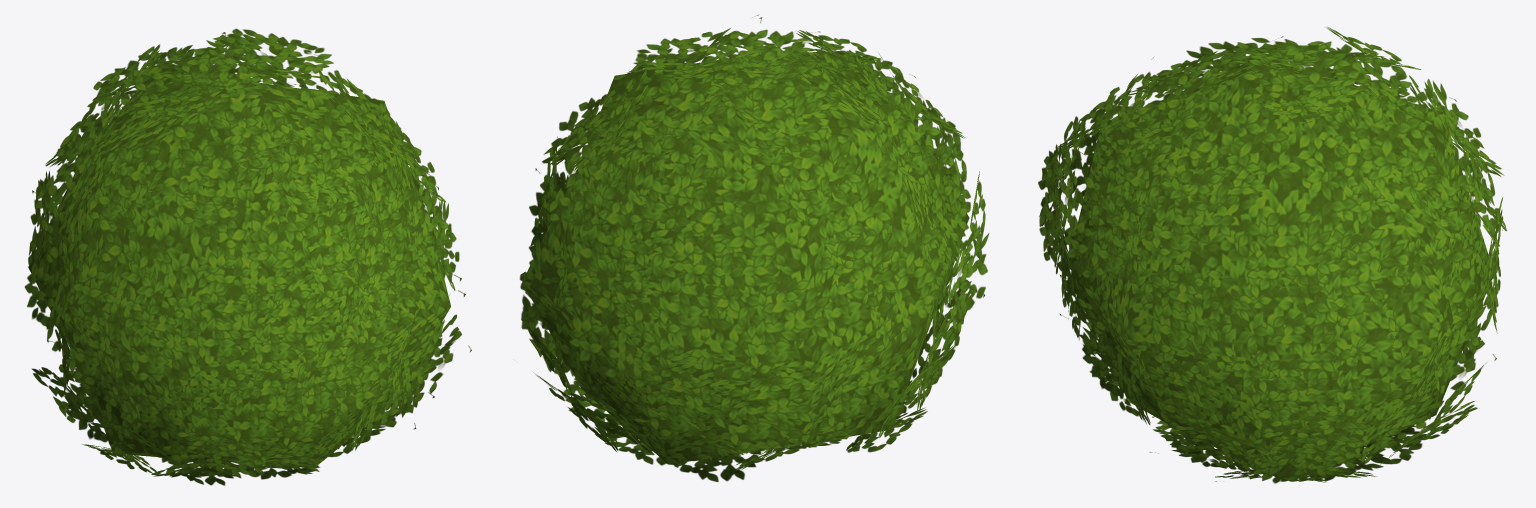
Rendered from bush.glb.
3 views of the same model, side by side, from view 1: azimuth 30°, elevation 25°; view 2: azimuth 150°, elevation 25°; view 3: azimuth 270°, elevation 25° (orthographic).
Visible parts, largest first — view 1: Bush_low; view 2: Bush_low; view 3: Bush_low.
Part boxes in pixels (x1=…): Bush_low: x1=24, y1=28, x2=471, y2=485; Bush_low: x1=519, y1=14, x2=989, y2=481; Bush_low: x1=1038, y1=27, x2=1506, y2=483.
Size of the model in its own units: 5.12 by 4.71 by 5.46.
Materials: 1 (1 with a texture image).
